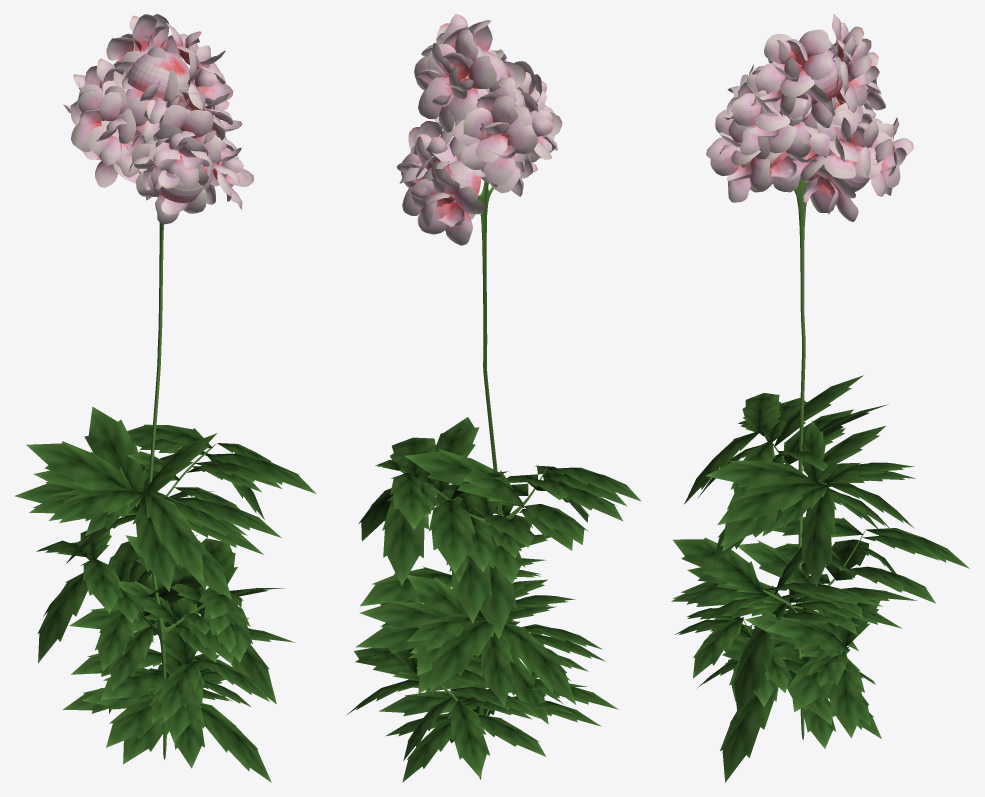
Rendered from Valeriana.fbx.
3 views of the same model, side by side, from view 1: azimuth 30°, elevation 25°; view 2: azimuth 150°, elevation 25°; view 3: azimuth 270°, elevation 25° (orthographic). The views are drawn at different scales.
Parts seen in each view (by area): view 1: Cylinder; view 2: Cylinder; view 3: Cylinder.
Part boxes in pixels (bbox=[...]): Cylinder: bbox=[14, 14, 316, 782]; Cylinder: bbox=[347, 14, 641, 782]; Cylinder: bbox=[671, 14, 969, 782].
Size of the model in its own units: 255 by 689 by 255.
